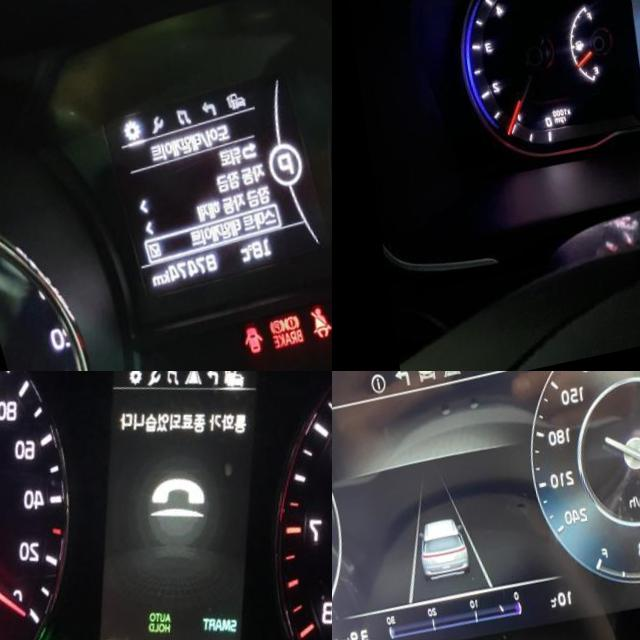Doors: (225, 335, 250, 368)
